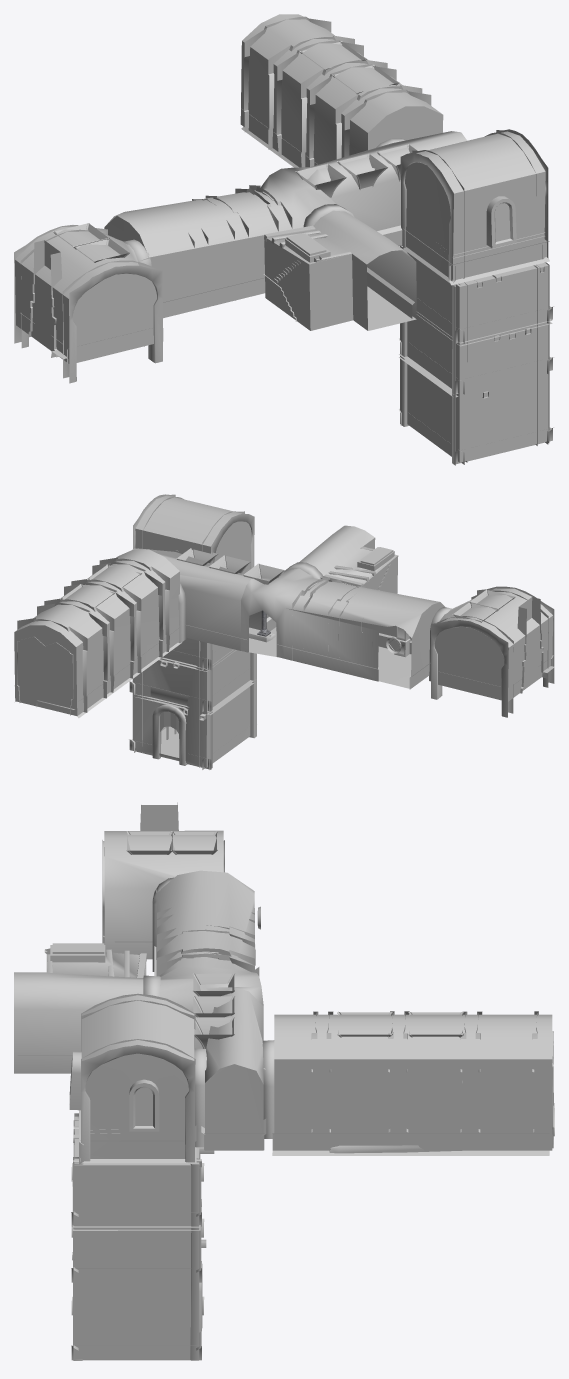
Rendered from ARSENAL_BASE.FBX.
3 renders of one model, top to bottom at view 1: azimuth 30°, elevation 25°; view 2: azimuth 150°, elevation 25°; view 3: azimuth 270°, elevation 25°, orthographic. The views are drawn at different scales.
Visible parts, largest first — view 1: Dangeron_Pass, Arsenal, Firwoods_Room, Hallway_right, Entrance_Main, Servants_Dining_Room, Hallway_Left, Arc_CC_03, Arc_DD_06, Arc_DD_04, Arc_CC_01, Window_B_08 (+7 smaller); view 2: Arsenal, Hallway_right, Dangeron_Pass, Servants_Dining_Room, Firwoods_Room, Hallway_Left, Entrance_Main, Arc_CC_02, Arc_DD_04, Arc_DD_03, Arc_DD_06, Door_Ark_Long_21 (+8 smaller); view 3: Arsenal, Dangeron_Pass, Firwoods_Room, Hallway_right, Entrance_Main, Servants_Dining_Room, Hallway_Left, Arc_CC_00, Window_B_16, Door_Ark_Short_01, Arc_DD_00, Fireplace (+5 smaller).
Part boxes in pixels (bbox=[...]): Dangeron_Pass: bbox=[399, 246, 553, 465]; Arsenal: bbox=[240, 14, 443, 167]; Firwoods_Room: bbox=[377, 131, 549, 285]; Hallway_right: bbox=[104, 167, 337, 318]; Entrance_Main: bbox=[264, 210, 416, 330]; Servants_Dining_Room: bbox=[15, 227, 163, 363]; Hallway_Left: bbox=[311, 131, 467, 230]; Arc_CC_03: bbox=[62, 260, 163, 383]; Arc_DD_06: bbox=[268, 35, 363, 155]; Arc_DD_04: bbox=[301, 59, 396, 167]; Arc_CC_01: bbox=[400, 150, 464, 281]; Window_B_08: bbox=[486, 196, 516, 248]; Arsenal: bbox=[14, 549, 181, 718]; Hallway_right: bbox=[240, 568, 444, 689]; Dangeron_Pass: bbox=[129, 638, 256, 769]; Servants_Dining_Room: bbox=[434, 588, 553, 701]; Firwoods_Room: bbox=[135, 495, 251, 574]; Hallway_Left: bbox=[132, 548, 261, 652]; Entrance_Main: bbox=[299, 525, 398, 593]; Arc_CC_02: bbox=[431, 616, 513, 717]; Arc_DD_04: bbox=[64, 578, 141, 678]; Arc_DD_03: bbox=[92, 557, 169, 657]; Arc_DD_06: bbox=[37, 598, 114, 698]; Door_Ark_Long_21: bbox=[152, 704, 187, 765]; Arsenal: bbox=[263, 1014, 552, 1155]; Dangeron_Pass: bbox=[71, 1113, 204, 1360]; Firwoods_Room: bbox=[79, 995, 196, 1164]; Hallway_right: bbox=[154, 870, 263, 1048]; Entrance_Main: bbox=[14, 952, 146, 1073]; Servants_Dining_Room: bbox=[103, 830, 223, 959]; Hallway_Left: bbox=[201, 987, 266, 1150]; Arc_CC_00: bbox=[81, 1039, 195, 1162]; Window_B_16: bbox=[129, 1079, 159, 1131]; Door_Ark_Short_01: bbox=[262, 1040, 274, 1138]; Arc_DD_00: bbox=[157, 948, 254, 976]; Fireplace: bbox=[140, 802, 178, 830].
Size of the model in its own units: 5281 by 3025 by 4664.
